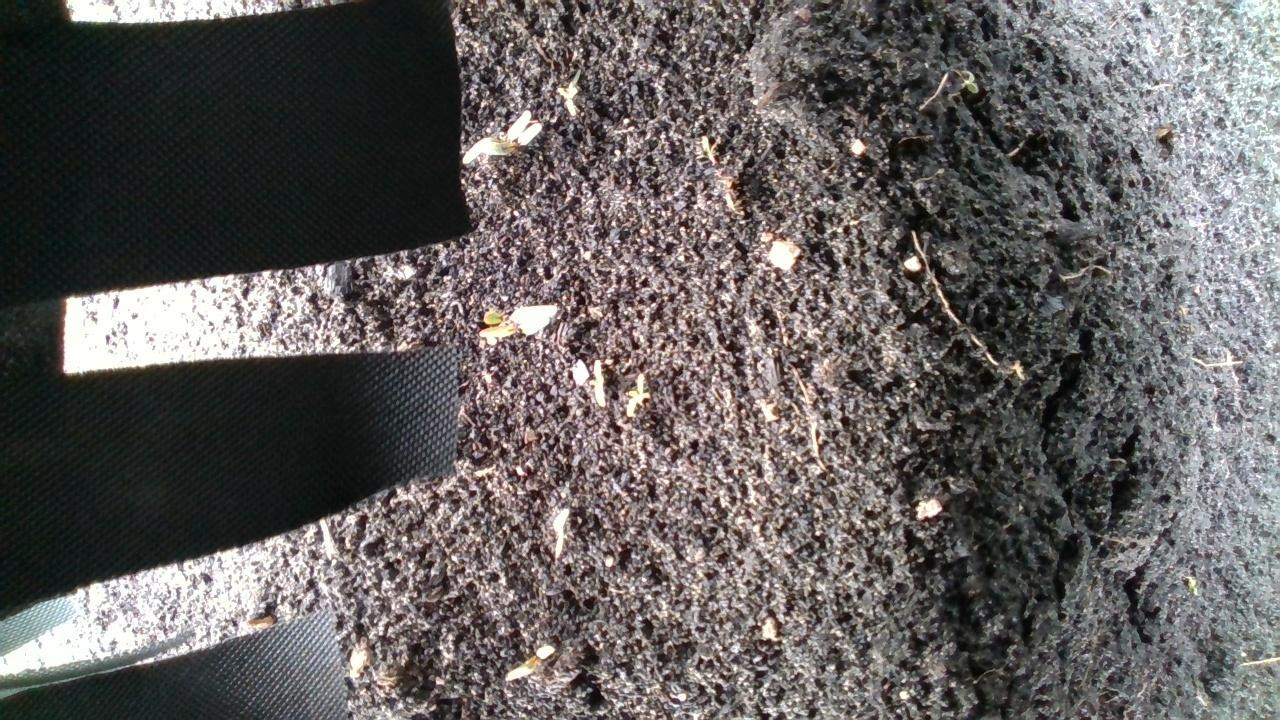weed: (544, 504, 573, 564)
